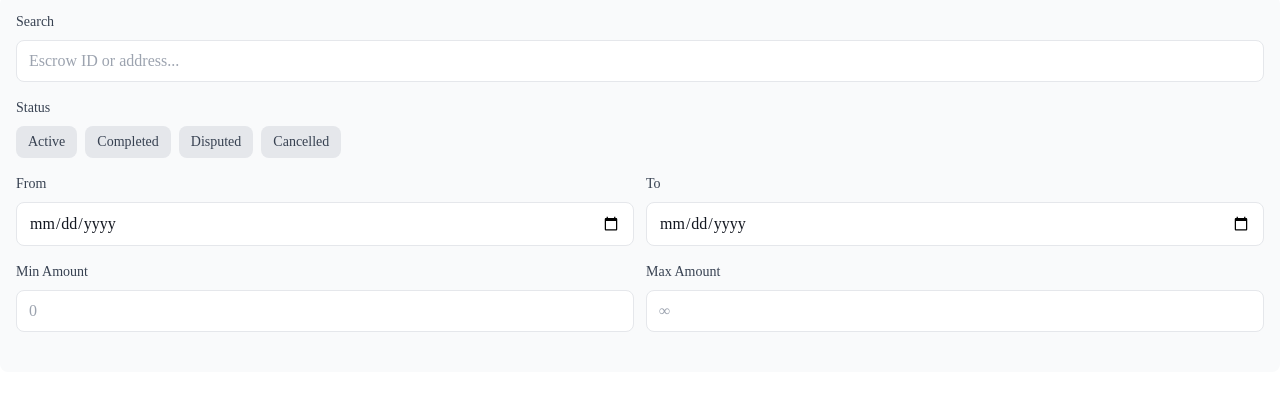
Test case: EscrowFilters › shows filter count badge when filters are active
The image size is (1280, 401).
Type "test" into the field with test id "search-input" at (640, 61), box [16,40,1264,82]
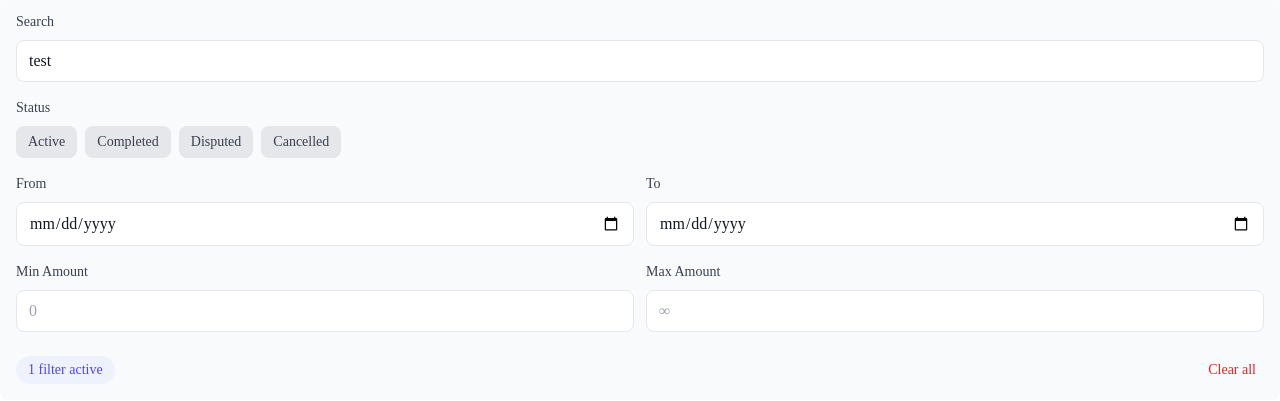
Check: the text "1 filter active" is shown, box [16,356,115,384]
